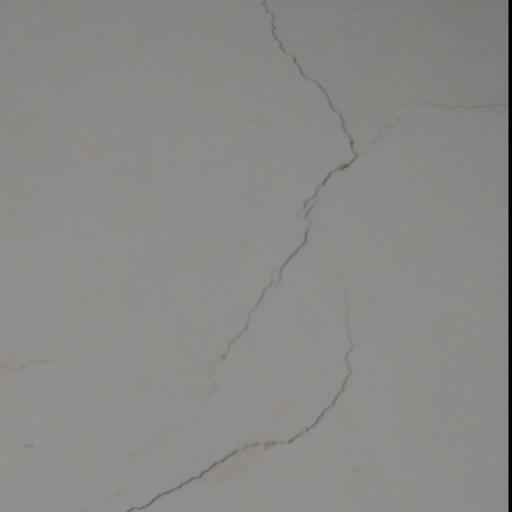minor_crack: (121, 0, 506, 512)
